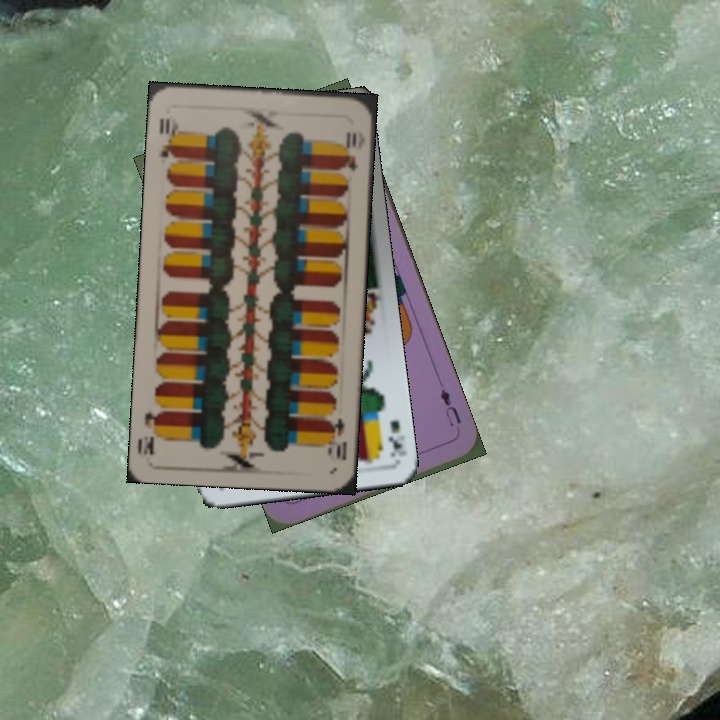E10: (322, 414, 349, 462), (155, 111, 181, 160)
EK: (384, 416, 409, 460)
EU: (435, 384, 464, 437)
